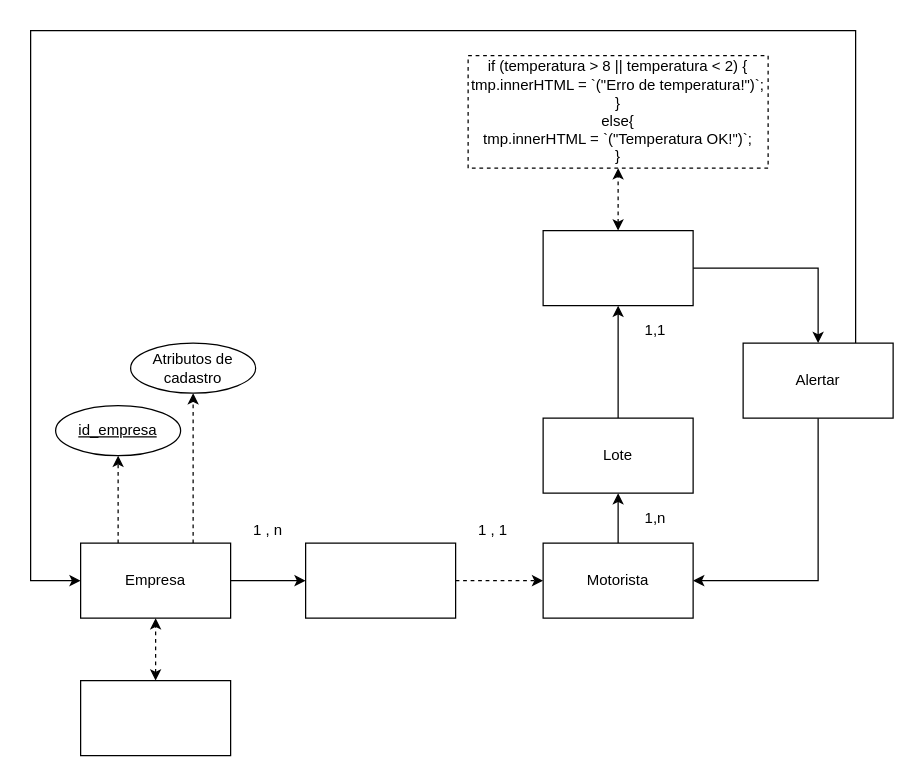
Some shapes in this 915 by 778 pixel diagram are drawn without their labels. Each missing label, with the centre of its shape:
"API" belongs at pixel 617 267.
"Banco de dados" belongs at pixel 155 717.
"Login" belongs at pixel 380 580.
